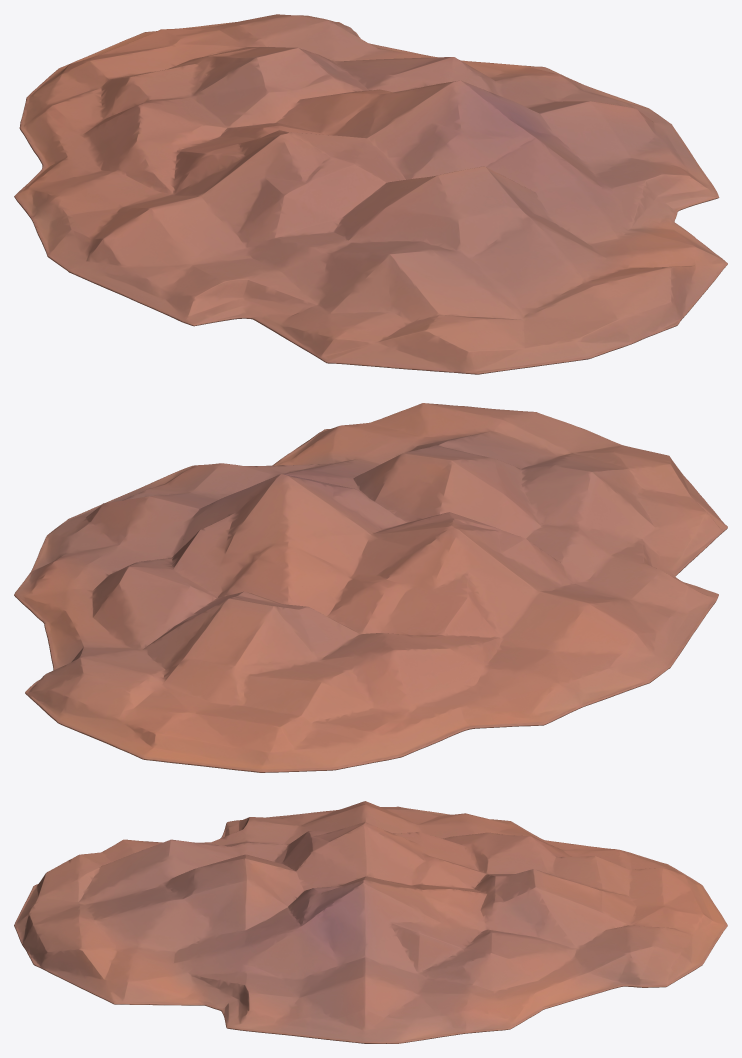
Rendered from desert+mountain+3d+model.glb.
3 renders of one model, top to bottom at view 1: azimuth 30°, elevation 25°; view 2: azimuth 150°, elevation 25°; view 3: azimuth 270°, elevation 25°, orthographic. The views are drawn at different scales.
Parts seen in each view (by area): view 1: tripo_node_5953fbd4-7e39-4655-9611-49f8dffb4242; view 2: tripo_node_5953fbd4-7e39-4655-9611-49f8dffb4242; view 3: tripo_node_5953fbd4-7e39-4655-9611-49f8dffb4242.
Part boxes in pixels (<box>): tripo_node_5953fbd4-7e39-4655-9611-49f8dffb4242: <box>14,14,727,374</box>; tripo_node_5953fbd4-7e39-4655-9611-49f8dffb4242: <box>14,403,727,772</box>; tripo_node_5953fbd4-7e39-4655-9611-49f8dffb4242: <box>14,801,727,1043</box>.
Bounding box in the file's own units: 0.7823 × 0.1215 × 1.
1 material, 1 textured.
